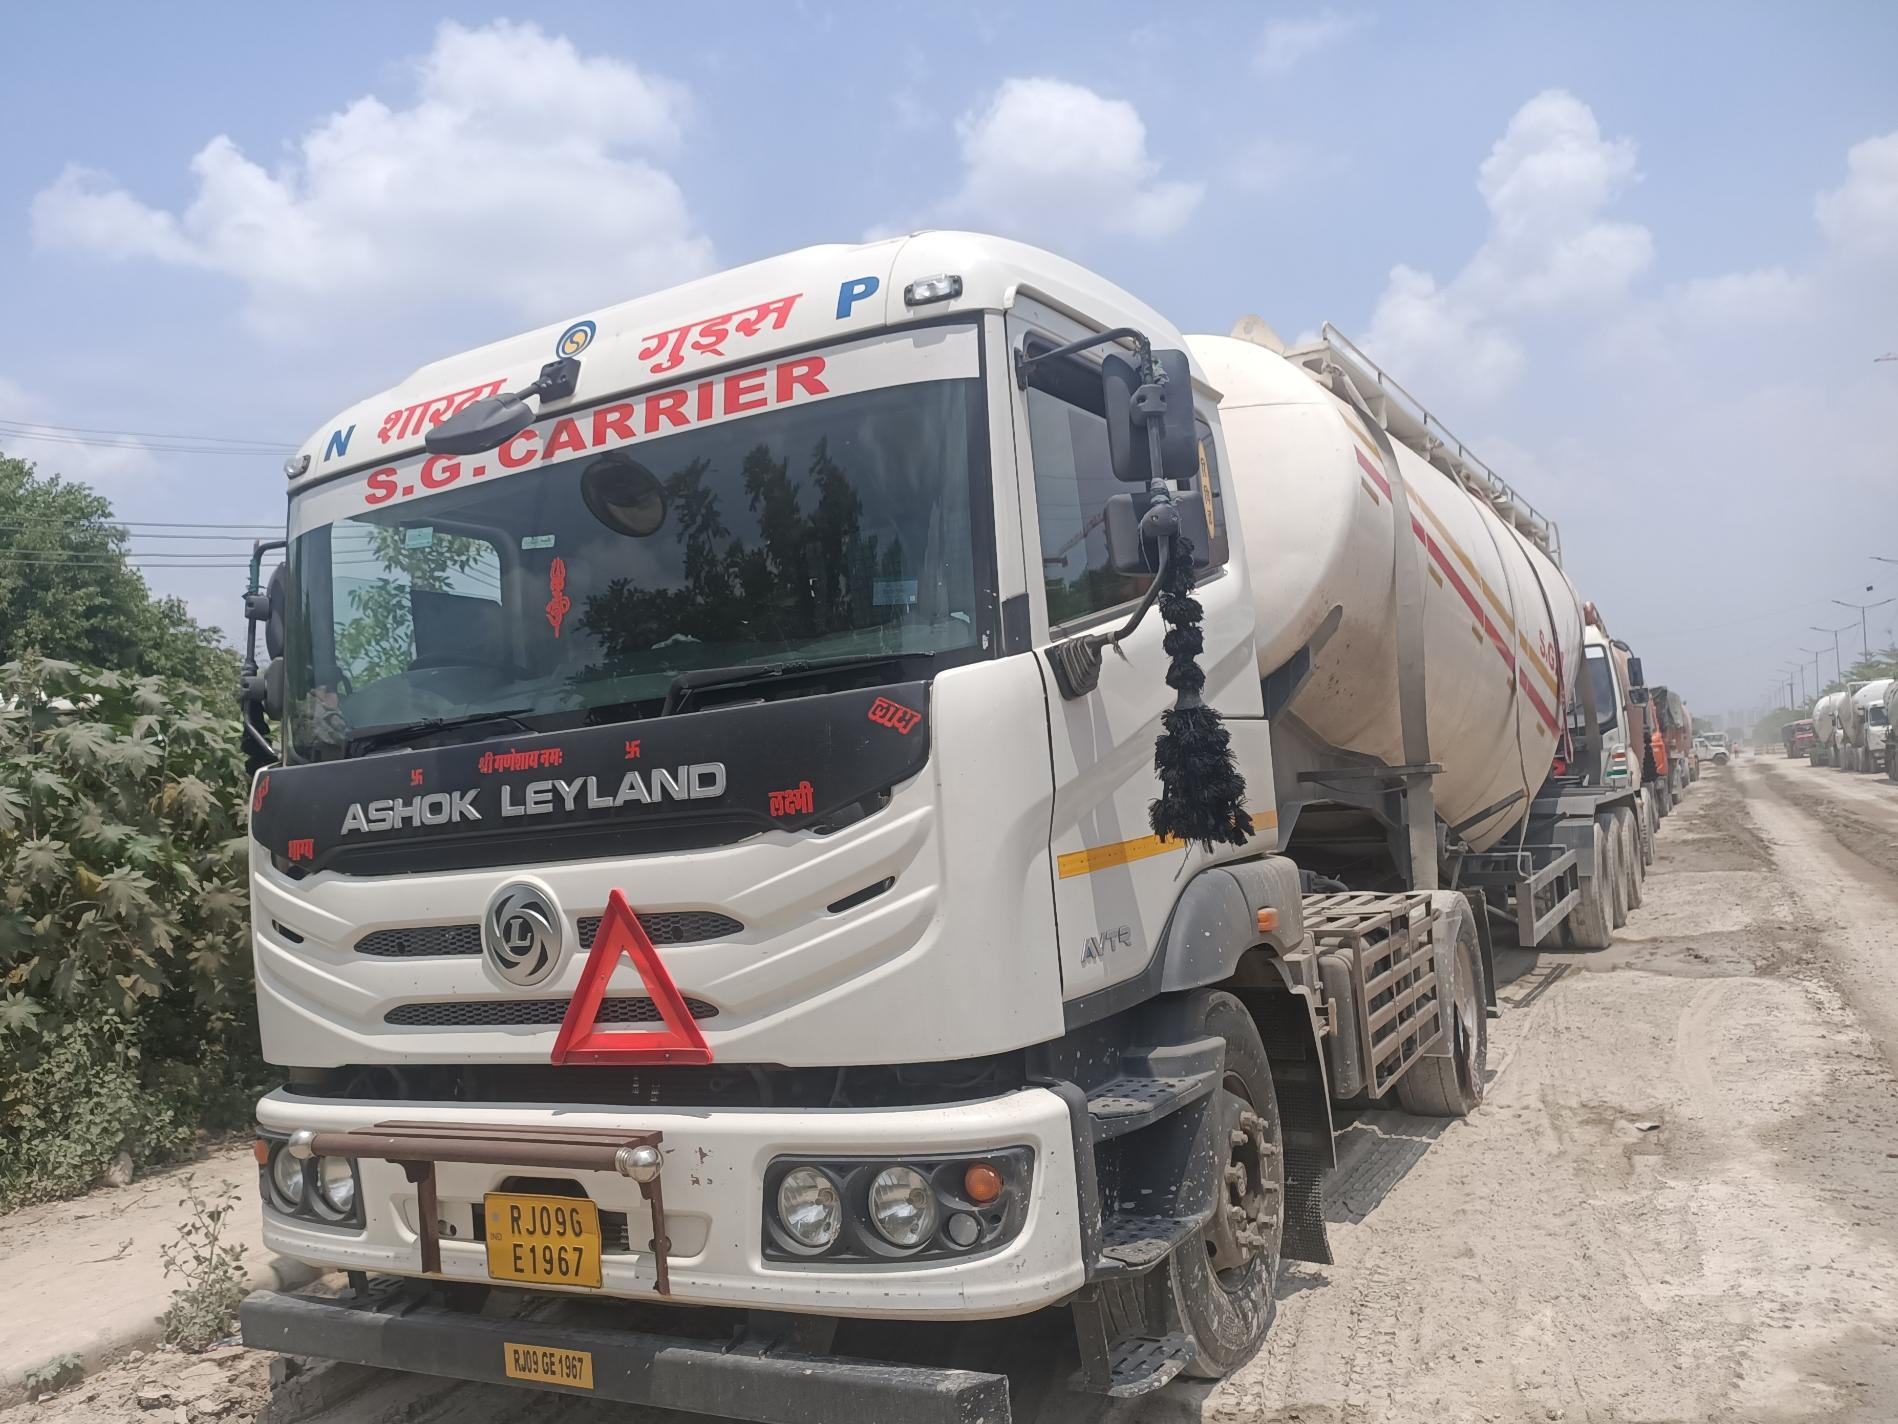FastTag: (401, 527, 438, 550)
not a FastTag: (518, 534, 561, 552)
